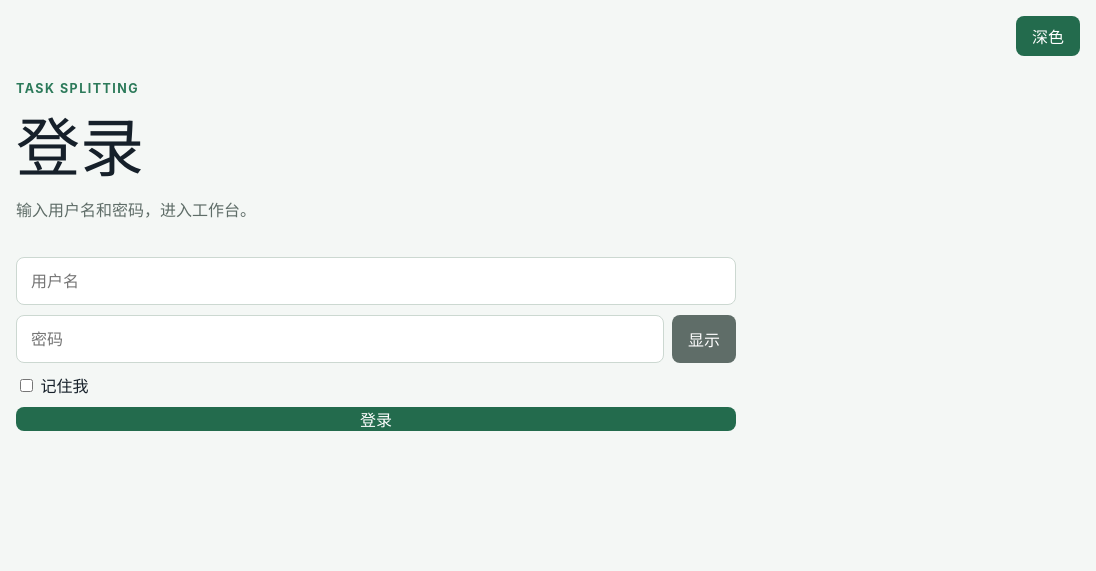
Test: TodoBoard completion-status filter (T-UI-01) › shows the empty state when the active filter leaves no visible todos
In the field with placeholder "用户名": [376, 281] box [16, 257, 736, 305], type "alice"
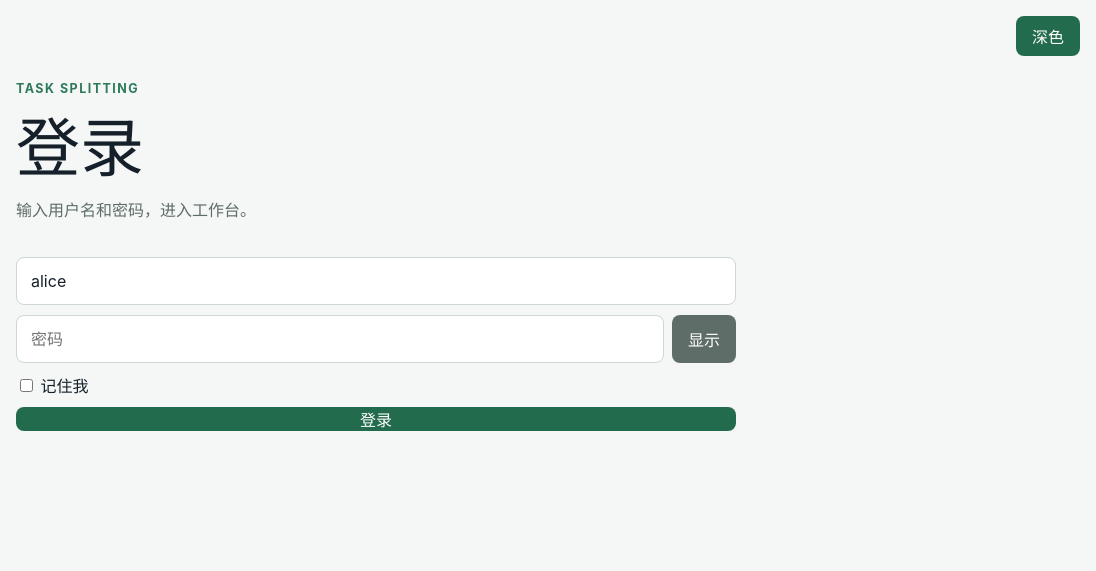
In the password field with placeholder "密码": [340, 339] box [16, 315, 664, 363], type "secret"
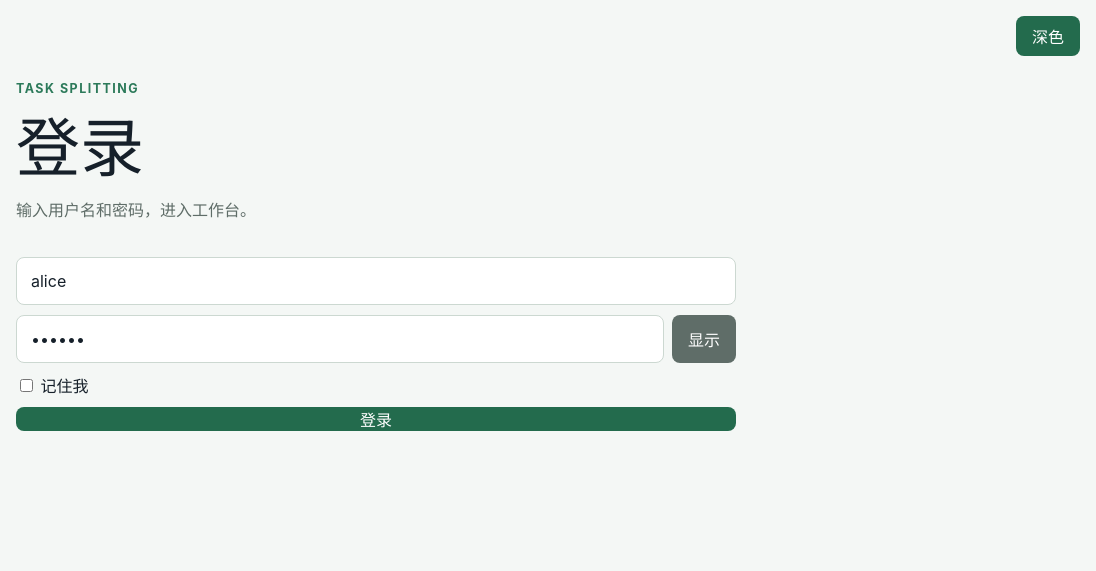
Submit the form from the button "登录", box [16, 407, 736, 431]
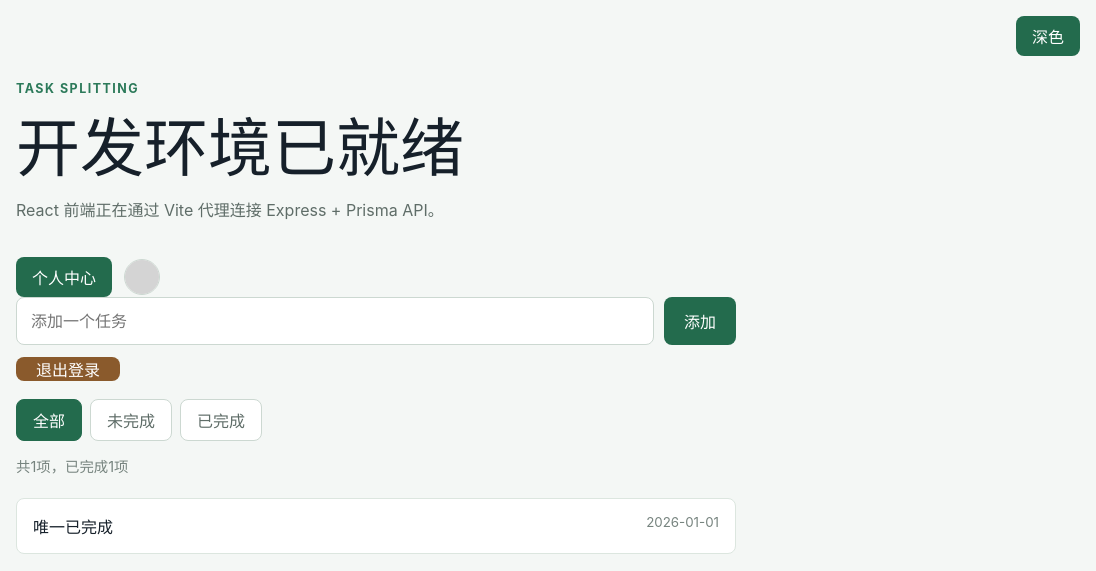
Click the button "未完成": [131, 420] box [90, 399, 172, 441]
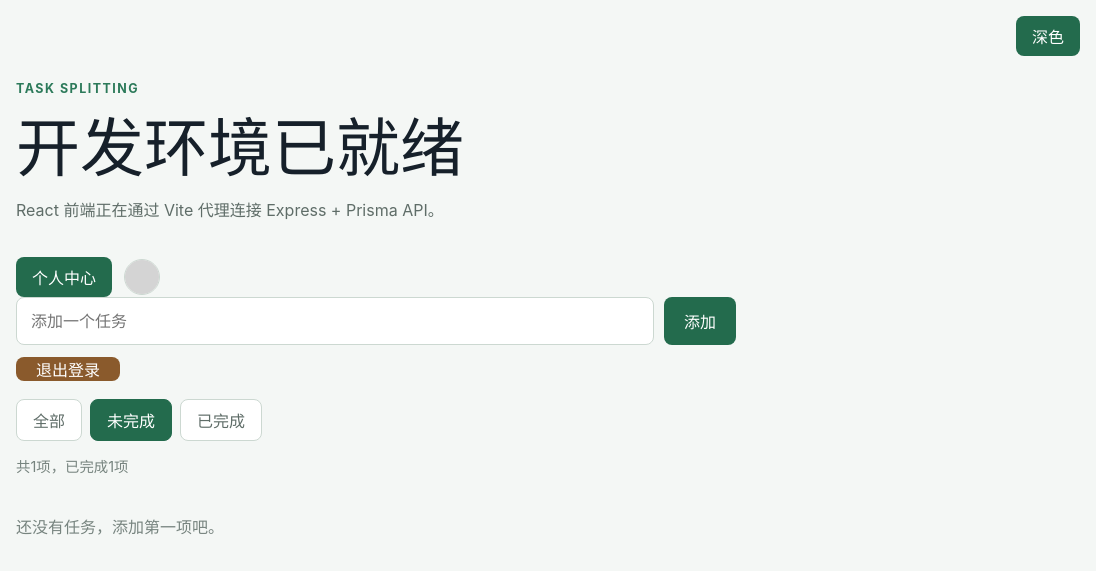
Now the element with class "todo" is gone
Now the text "还没有任务，添加第一项吧。" is shown, box [16, 517, 224, 537]
